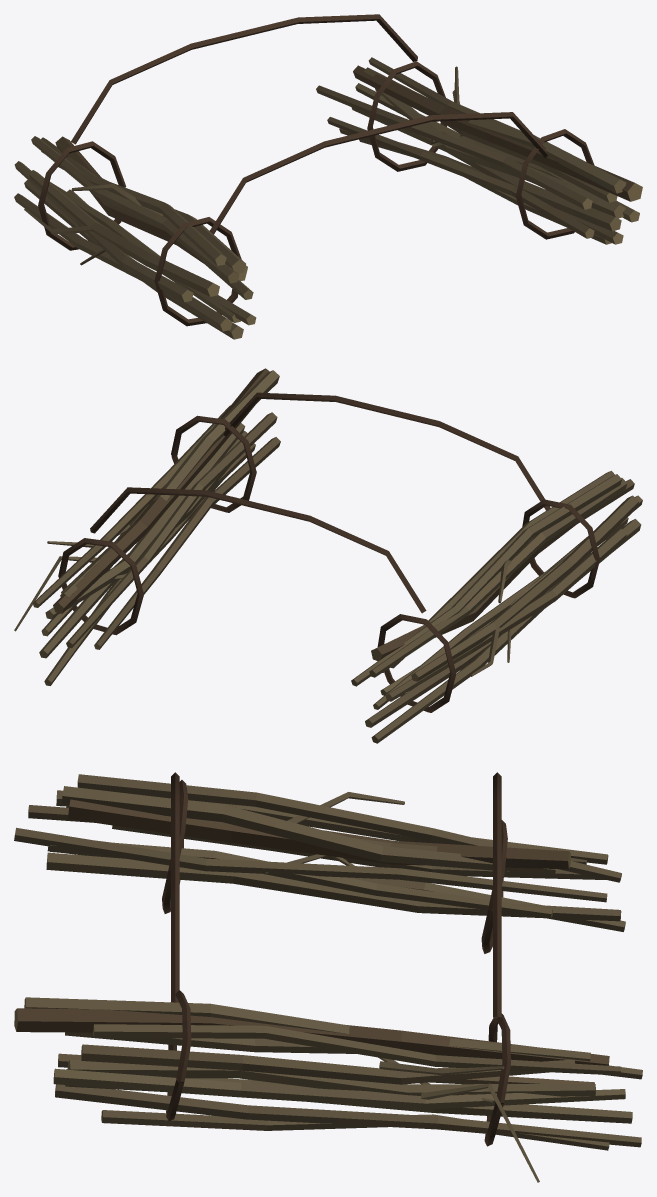
The model's file is atado_lenia.glb.
3 renders of one model, top to bottom at view 1: azimuth 30°, elevation 25°; view 2: azimuth 150°, elevation 25°; view 3: azimuth 270°, elevation 25°, orthographic. The views are drawn at different scales.
Visible parts, largest first — view 1: AtadoLenia; view 2: AtadoLenia; view 3: AtadoLenia.
Boxes of the visible parts, box(x1,y1,x2,y2) form: AtadoLenia: box(14, 14, 642, 339); AtadoLenia: box(14, 368, 642, 743); AtadoLenia: box(14, 772, 642, 1182).
Size of the model in its own units: 1.03 by 0.3954 by 1.02.
